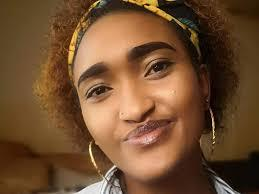Persons: (48, 2, 233, 183)
